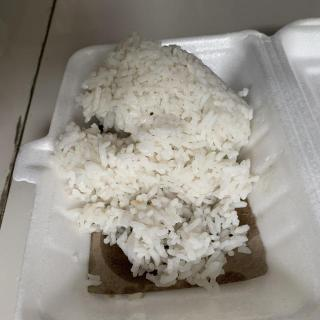Nasi: (59, 37, 249, 291)
